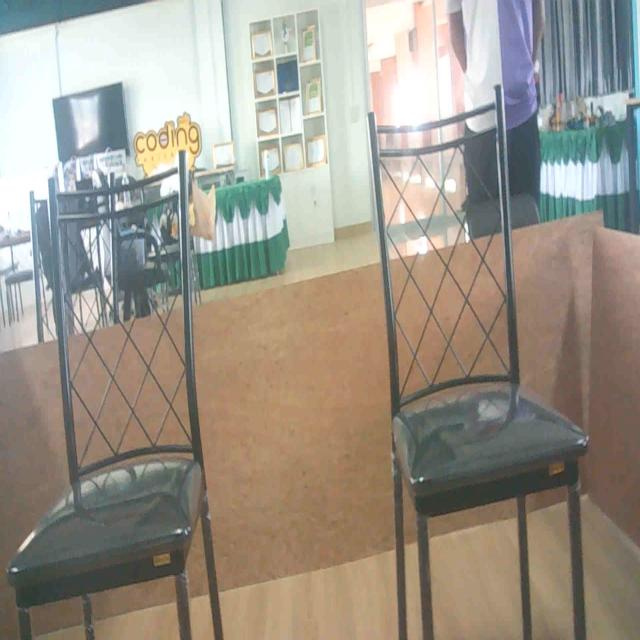empty: (366, 111, 596, 514), (6, 190, 203, 591)
